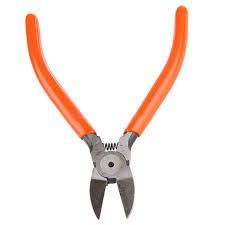pliers: (23, 4, 188, 224)
